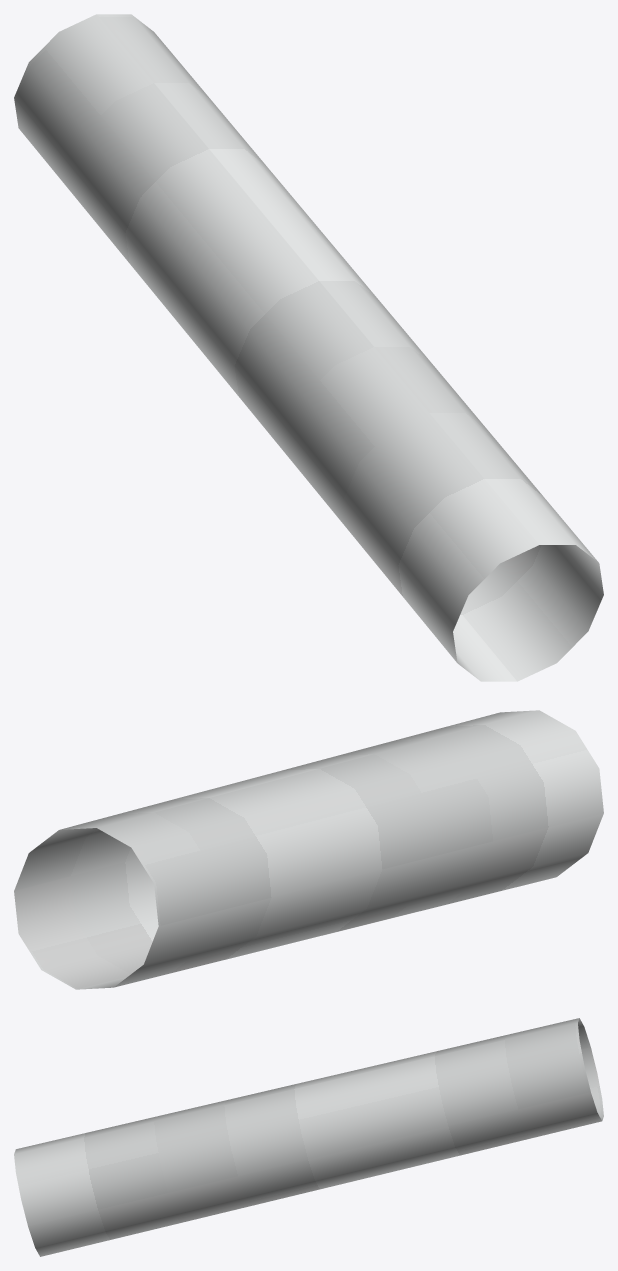
File: luminairearm_caltrans15ftstraightdouble_c5.obj
3 views of the same model, one above another, from view 1: azimuth 30°, elevation 25°; view 2: azimuth 150°, elevation 25°; view 3: azimuth 270°, elevation 25° (orthographic). The views are drawn at different scales.
Visible parts, largest first — view 1: luminairearm_caltrans15ftstraightdouble_c5; view 2: luminairearm_caltrans15ftstraightdouble_c5; view 3: luminairearm_caltrans15ftstraightdouble_c5.
Part boxes in pixels (x1=…): luminairearm_caltrans15ftstraightdouble_c5: x1=14, y1=14, x2=603, y2=681; luminairearm_caltrans15ftstraightdouble_c5: x1=14, y1=710, x2=603, y2=989; luminairearm_caltrans15ftstraightdouble_c5: x1=14, y1=1018, x2=603, y2=1256.
Size of the model in its own units: 0.1917 by 0.4359 by 1.02.
